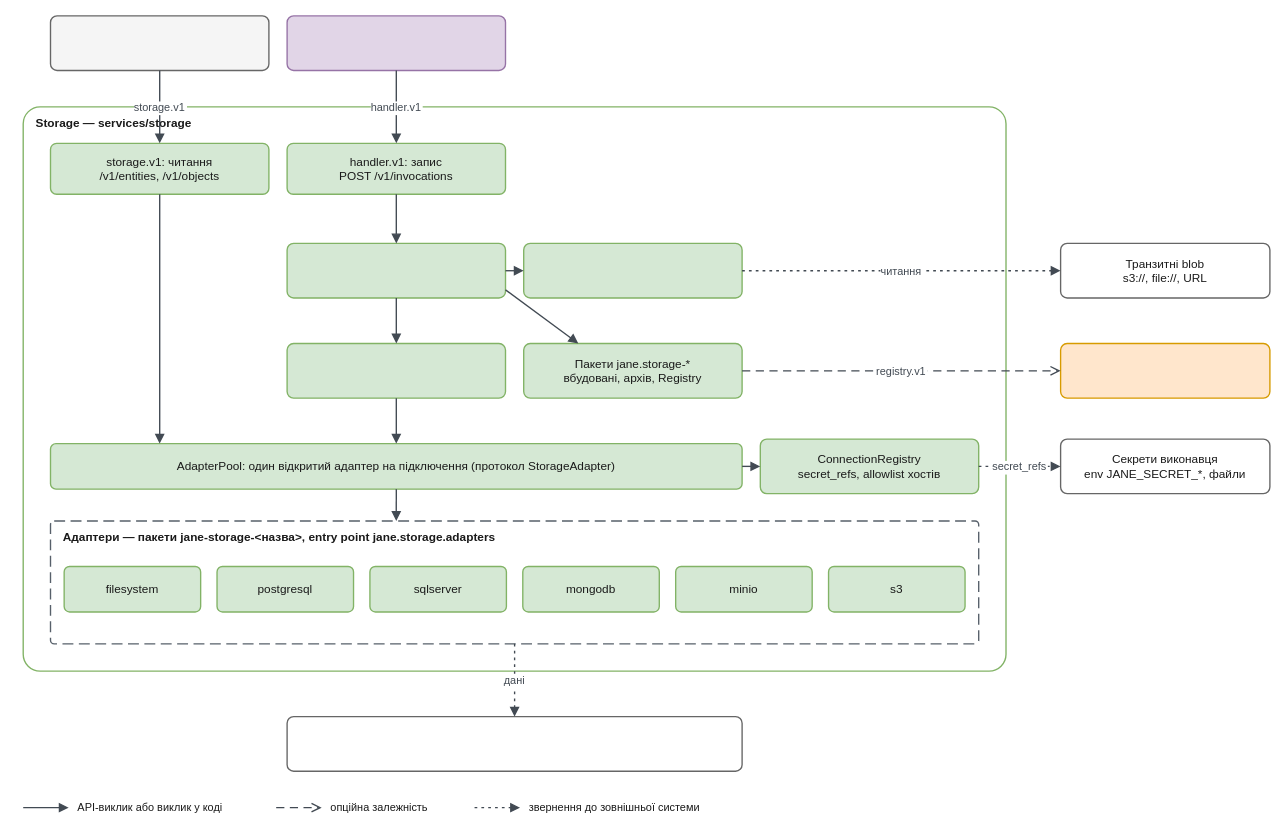
Image size: 1287x834. Some labels were removed from this diagram. Each missing label, with the centre of its shape:
"ContentReader inline, blob, download_url" goes at (632,270).
"Orchestrator або сторонній застосунок" goes at (396,43).
"Registry пакети (опційно)" goes at (1165,370).
"StorageEngine + merge дублі, злиття, повтор CONFLICT" goes at (396,370).
"StorageHandler пакет, params, формат RAW" goes at (396,270).
"Сторонній застосунок, Assistant, Admin UI" goes at (159,43).
"Цільові сховища каталог, PostgreSQL, SQL Server, MongoDB, MinIO, S3" goes at (514,743).
